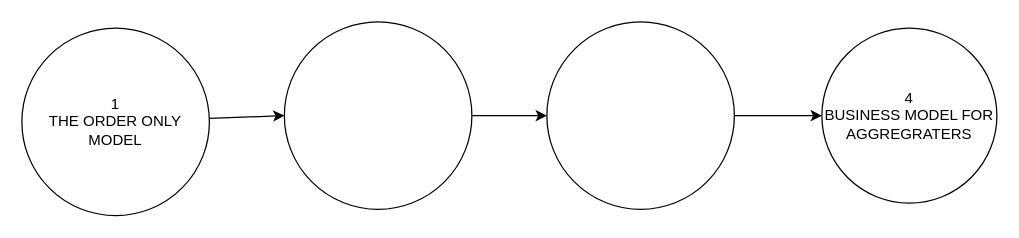
Some shapes in this 1019 by 238 pixel diagram are drawn without their labels. Here are the shapes that lost their labels. From the top down, the centre of each, then its label:
At pixel 377 115: "2 THE ORDER AND DELIVERY MODEL".
At pixel 640 115: "3 COMPLETE INTEGRATED MODEL".
